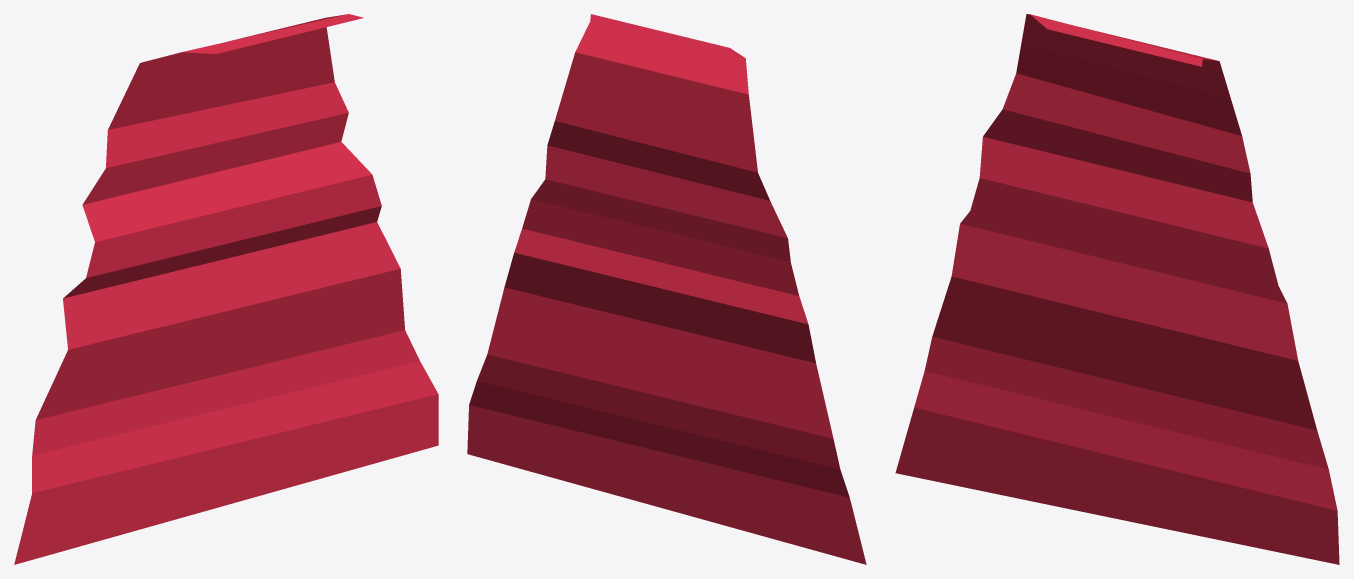
Rendered from SK_Mannequin_Cape2.fbx.
3 renders of one model, left to right at view 1: azimuth 30°, elevation 25°; view 2: azimuth 150°, elevation 25°; view 3: azimuth 330°, elevation 25°, orthographic. The views are drawn at different scales.
Parts seen in each view (by area): view 1: Плоскость; view 2: Плоскость; view 3: Плоскость.
Boxes of the visible parts, box(x1,y1,x2,y2) form: Плоскость: box(14, 14, 438, 564); Плоскость: box(467, 14, 866, 564); Плоскость: box(895, 14, 1339, 564).
Bounding box in the file's own units: 15.21 × 105 × 95.46.
